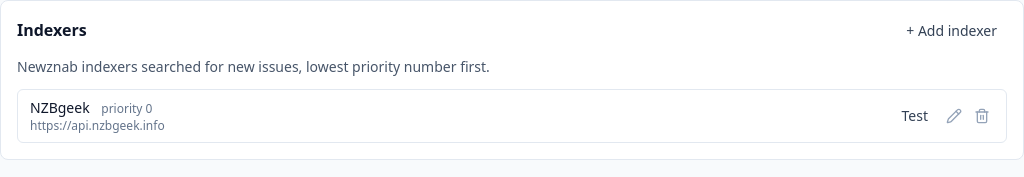
Test: IndexerSettings › deletes an indexer and drops it from the list
The width and height of the screenshot is (1024, 177).
Click the button named "Remove indexer NZBgeek".
click(982, 116)  # box [970,104,994,128]
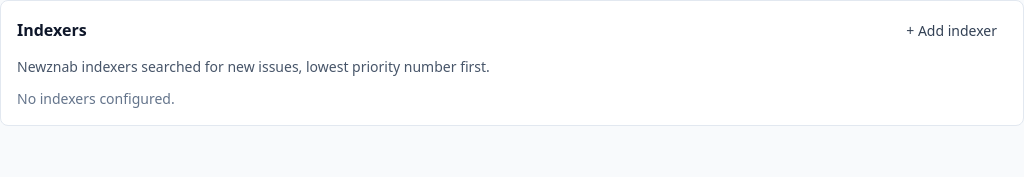
Result: the text "NZBgeek" is gone
